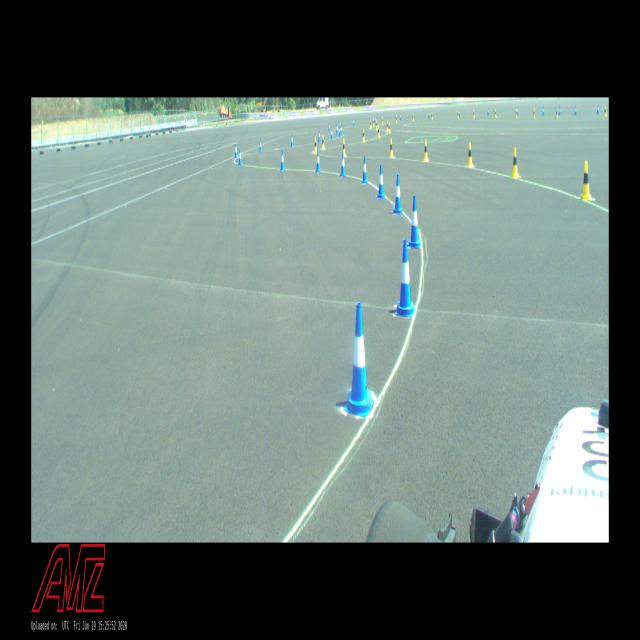blue_cone: (344, 302, 374, 418), (395, 239, 416, 319), (408, 196, 422, 248), (393, 174, 403, 216), (376, 166, 386, 200), (362, 156, 368, 183), (315, 150, 321, 173), (341, 152, 346, 176), (280, 150, 285, 170), (238, 148, 243, 166), (234, 142, 238, 158), (290, 134, 294, 148), (259, 139, 262, 153), (331, 127, 334, 140), (318, 130, 321, 143), (574, 105, 577, 116), (328, 123, 331, 132), (338, 127, 341, 136), (341, 124, 343, 135), (597, 104, 599, 114), (399, 114, 402, 120), (336, 124, 338, 133), (542, 106, 544, 115), (558, 106, 560, 115), (353, 118, 355, 126), (487, 108, 489, 115), (428, 111, 430, 118), (374, 116, 376, 123)
yellow_cone: (580, 161, 592, 200), (511, 148, 520, 178), (466, 143, 473, 167), (423, 139, 429, 162), (389, 138, 395, 158), (322, 136, 326, 150), (343, 138, 346, 156), (603, 106, 607, 118), (314, 137, 317, 152), (362, 128, 365, 142), (388, 122, 391, 134), (514, 109, 518, 118), (375, 120, 378, 130), (533, 109, 536, 118), (555, 109, 558, 118), (378, 125, 380, 138), (381, 117, 384, 125), (369, 120, 372, 128), (386, 121, 388, 131), (412, 113, 414, 122), (494, 109, 496, 118), (372, 118, 374, 127), (369, 120, 371, 128), (473, 110, 475, 118), (431, 112, 433, 120), (457, 110, 459, 118), (395, 116, 397, 122)
